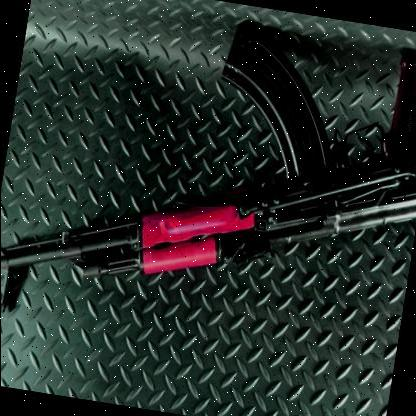rifle: (0, 0, 416, 367)
